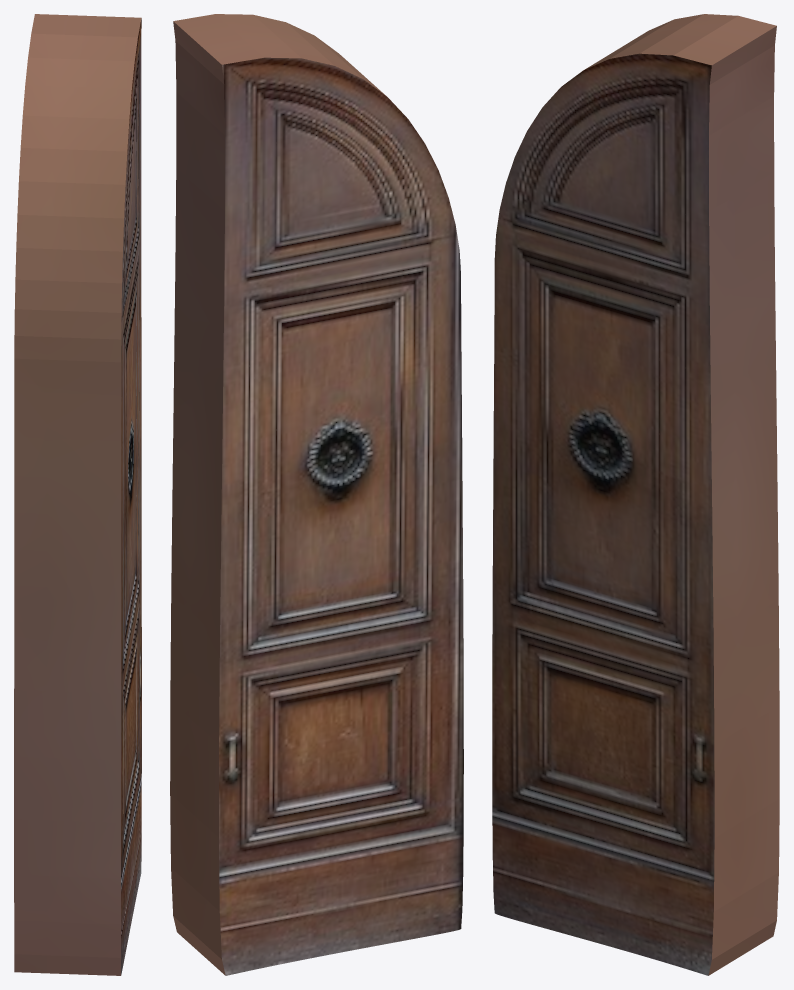
Rendered from LeftDoor.glb.
3 renders of one model, left to right at view 1: azimuth 30°, elevation 25°; view 2: azimuth 150°, elevation 25°; view 3: azimuth 270°, elevation 25°, orthographic. The views are drawn at different scales.
Parts seen in each view (by area): view 1: Left Door; view 2: Left Door; view 3: Left Door.
Part boxes in pixels (box(x1,y1,x2,y2)): Left Door: box(14, 14, 141, 975); Left Door: box(170, 14, 463, 975); Left Door: box(492, 14, 779, 975).
Bounding box in the file's own units: 0.8731 × 3.54 × 1.01.
Materials: 1 (1 with a texture image).
